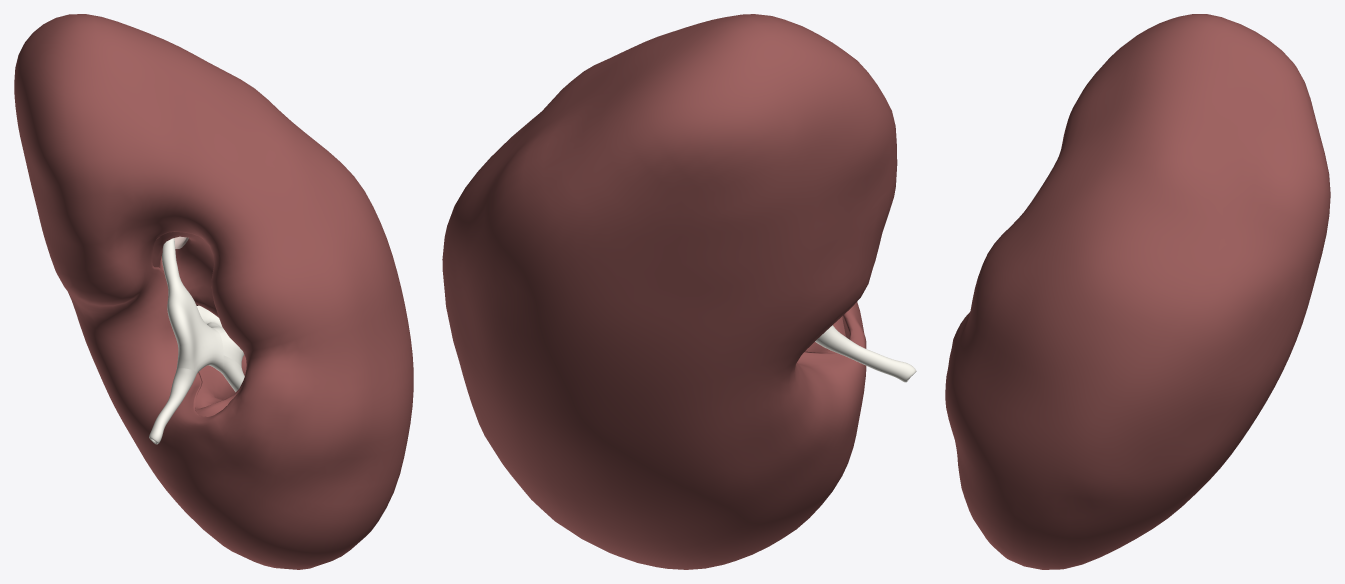
Rendered from VH_F_Kidney_Left.glb.
The picture shows the model from 3 angles, left to right: view 1: azimuth 30°, elevation 25°; view 2: azimuth 150°, elevation 25°; view 3: azimuth 270°, elevation 25°; orthographic projection. The views are drawn at different scales.
Visible parts, largest first — view 1: VHF_kidney_capsule_L, VHF_hilum_of_kidney_L, VHF_renal_pelvis_L, VHF_ureter_L_a, VHF_major_calyx_L_d; view 2: VHF_kidney_capsule_L, VHF_ureter_L_a; view 3: VHF_kidney_capsule_L.
Boxes of the visible parts, left/top/right/bottom form: VHF_kidney_capsule_L: left=14, top=14, right=413, bottom=569; VHF_hilum_of_kidney_L: left=152, top=232, right=246, bottom=416; VHF_renal_pelvis_L: left=163, top=260, right=223, bottom=374; VHF_ureter_L_a: left=149, top=368, right=196, bottom=444; VHF_major_calyx_L_d: left=220, top=355, right=244, bottom=392; VHF_kidney_capsule_L: left=442, top=14, right=897, bottom=569; VHF_ureter_L_a: left=815, top=325, right=916, bottom=382; VHF_kidney_capsule_L: left=945, top=14, right=1330, bottom=569.
Bounding box in the file's own units: 0.0778 × 0.1138 × 0.0826.
